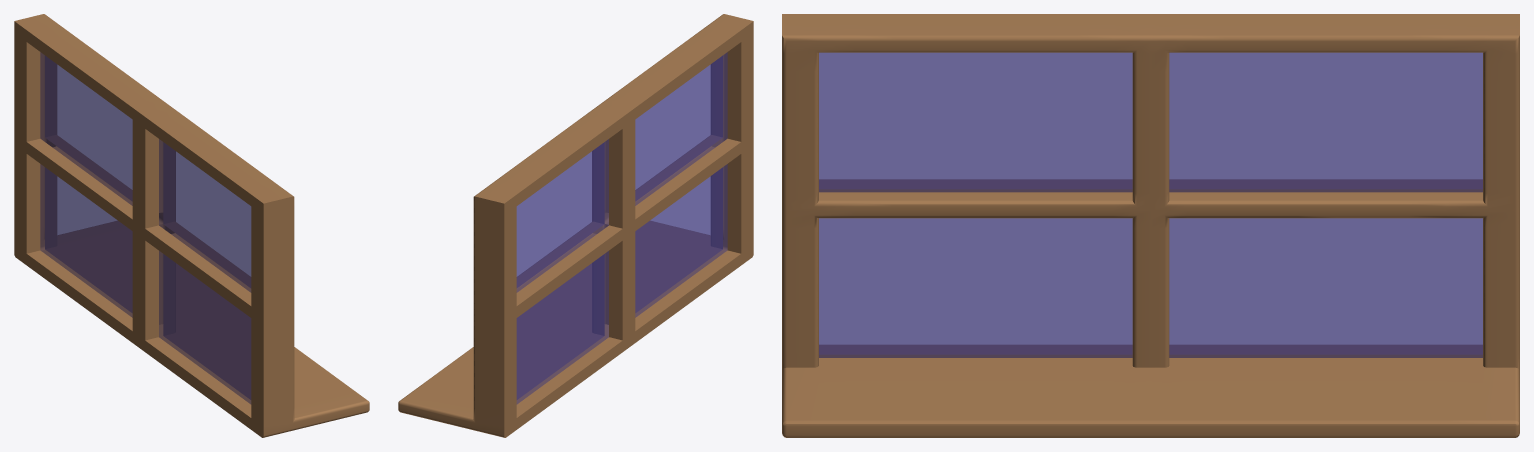
File: window.fbx
3 views of the same model, side by side, from view 1: azimuth 30°, elevation 25°; view 2: azimuth 150°, elevation 25°; view 3: azimuth 270°, elevation 25° (orthographic). The views are drawn at different scales.
Visible parts, largest first — view 1: pCube1; view 2: pCube1; view 3: pCube1.
Boxes of the visible parts, <box> form: pCube1: <box>14,14,369,437</box>; pCube1: <box>398,14,753,437</box>; pCube1: <box>782,14,1519,437</box>.
Size of the model in its own units: 6.39 by 13.39 by 25.72.
